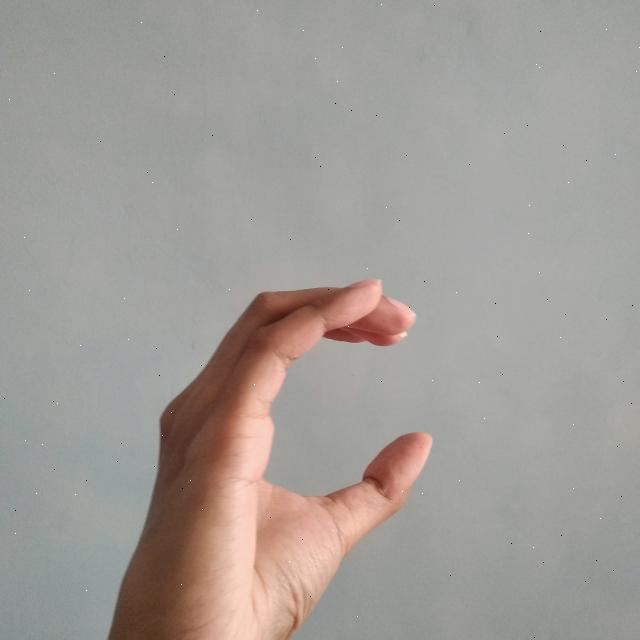C: (111, 276, 438, 640)
